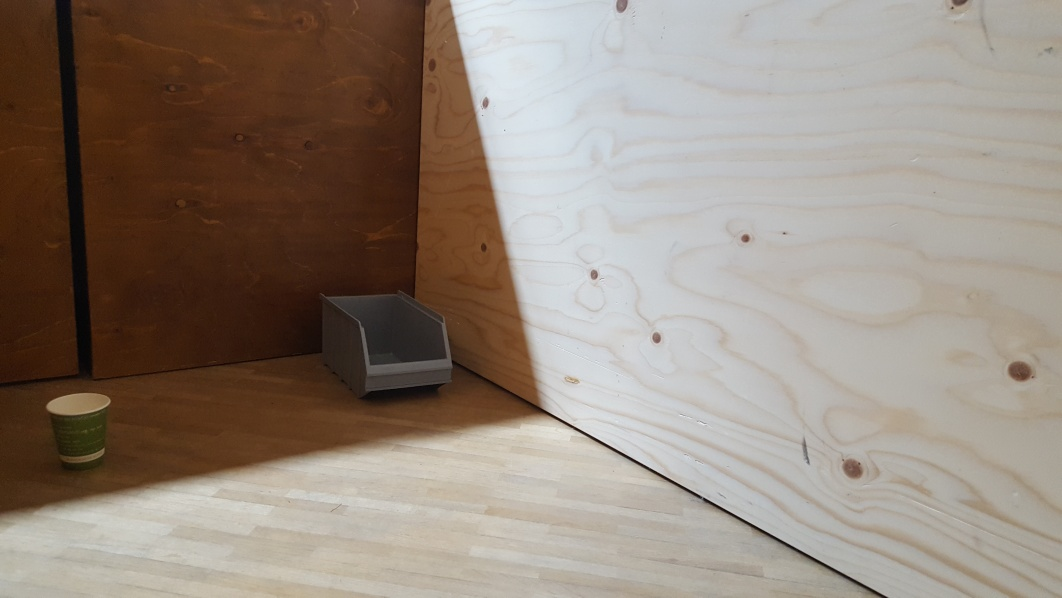cup: (41, 392, 120, 472)
tray: (315, 290, 460, 412)
